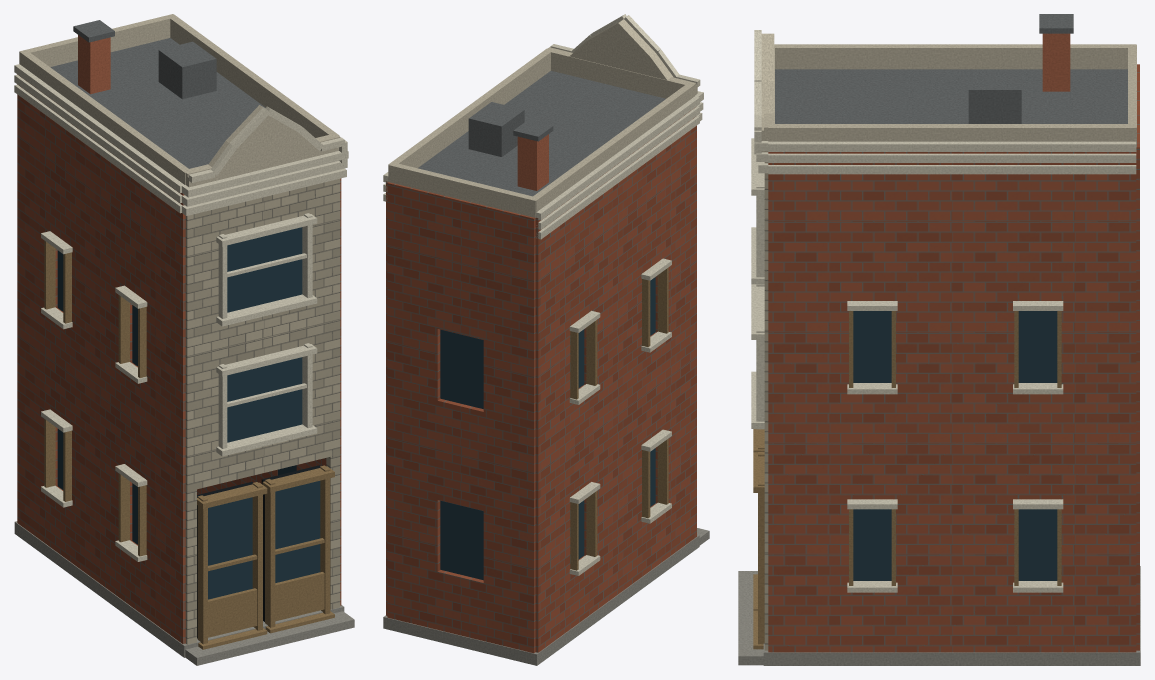
File: RUNDWN11_lod2.glb
The picture shows the model from 3 angles, left to right: view 1: azimuth 30°, elevation 25°; view 2: azimuth 150°, elevation 25°; view 3: azimuth 270°, elevation 25°; orthographic projection. The views are drawn at different scales.
Visible parts, largest first — view 1: RUNDWN11_LOD2; view 2: RUNDWN11_LOD2; view 3: RUNDWN11_LOD2.
Boxes of the visible parts, x1=… form: RUNDWN11_LOD2: x1=14, y1=14, x2=354, y2=665; RUNDWN11_LOD2: x1=383, y1=14, x2=709, y2=665; RUNDWN11_LOD2: x1=738, y1=14, x2=1140, y2=665.
Bounding box in the file's own units: 3.71 × 10.65 × 6.57.
10 materials, 8 textured.
